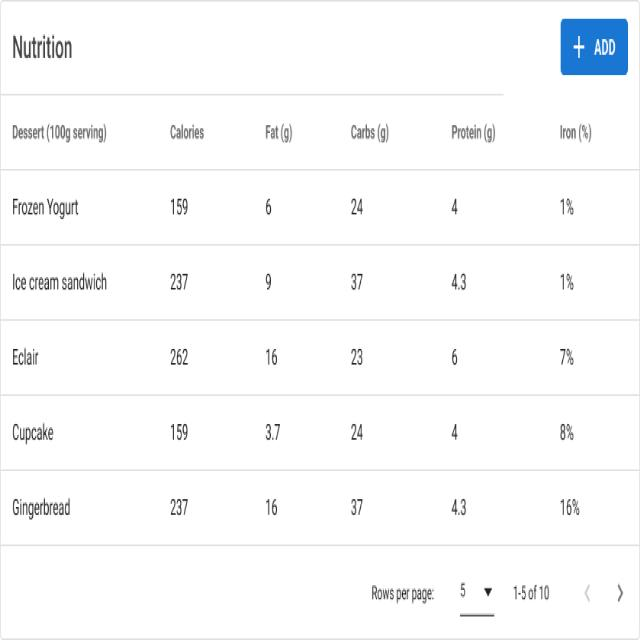QLabel: (12, 34, 72, 62), (594, 38, 616, 57)
VBtn: (560, 18, 628, 77)
VDataTable: (0, 91, 640, 640)
VIcon: (573, 35, 586, 60)
